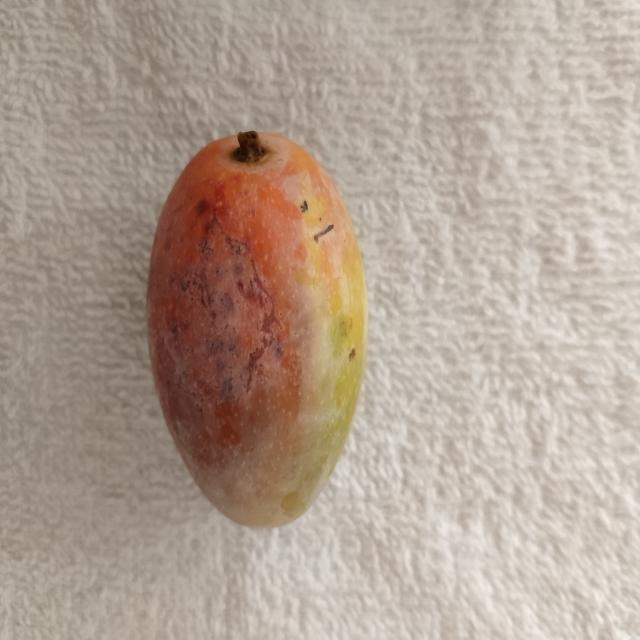mango: (148, 132, 367, 526)
